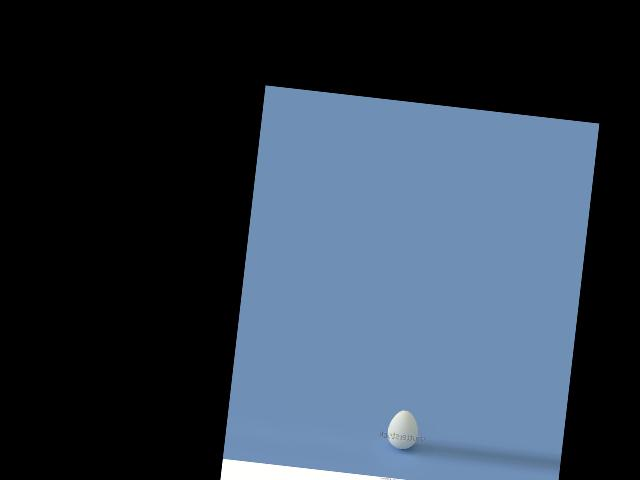egg: (385, 408, 420, 451)
